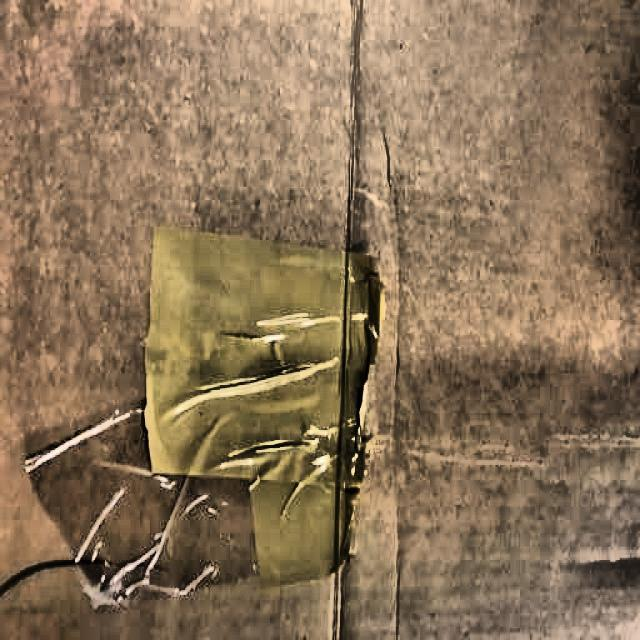cardboard: (141, 222, 384, 586)
